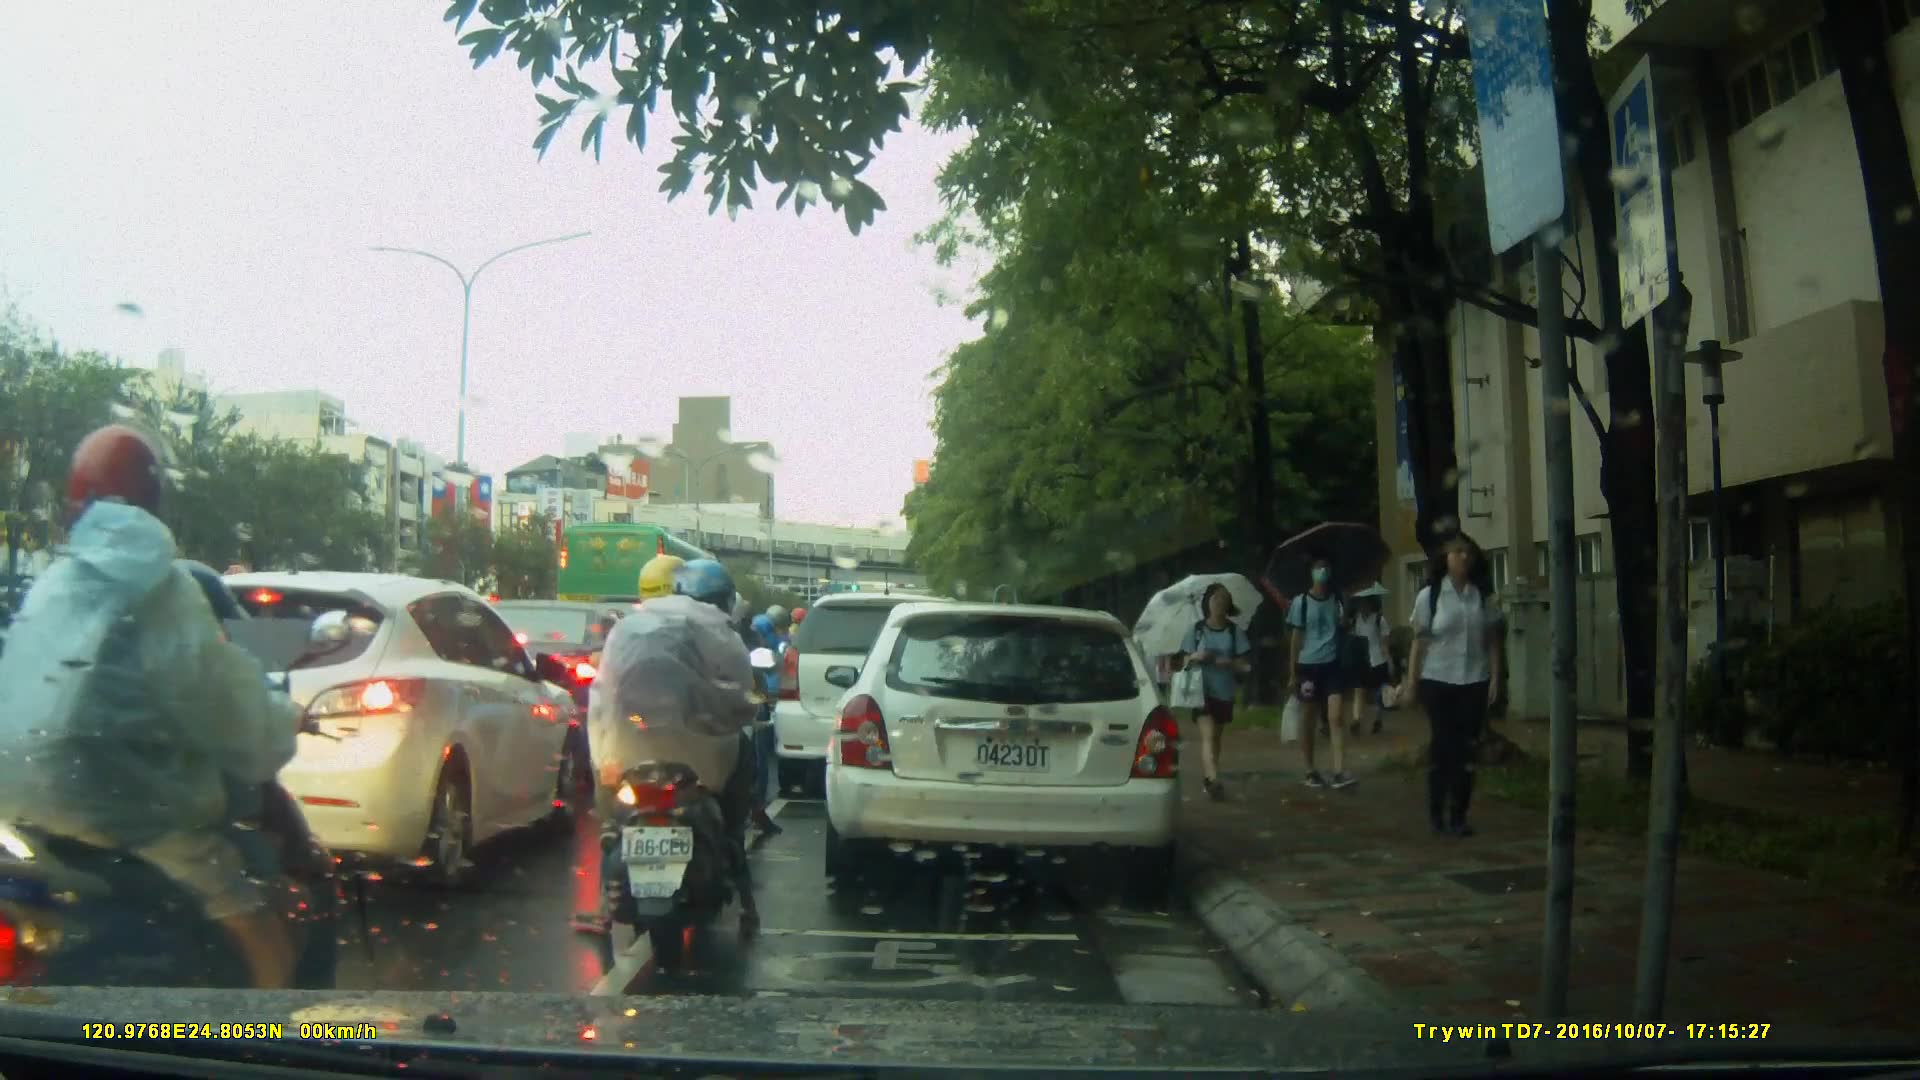pedestrian: (1397, 528, 1518, 850), (1275, 551, 1360, 799), (1177, 578, 1251, 804), (1133, 604, 1174, 742)
rider: (1, 421, 379, 1062), (570, 554, 781, 944), (649, 582, 760, 830)
vehicle: (93, 569, 588, 883), (822, 604, 1186, 882), (774, 595, 995, 802), (554, 519, 739, 666)
